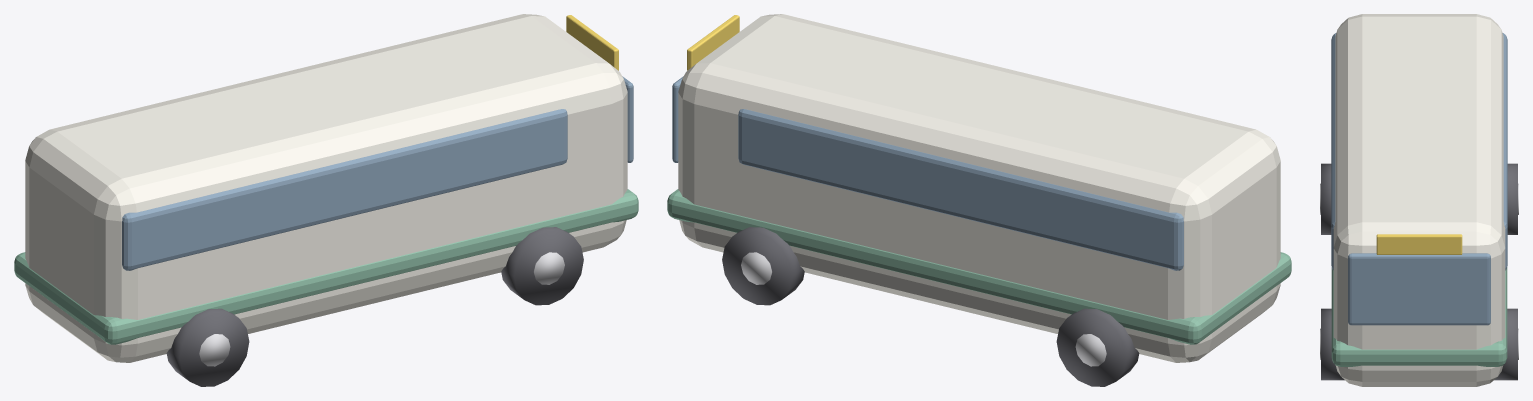
The model's file is bus.glb.
3 views of the same model, side by side, from view 1: azimuth 30°, elevation 25°; view 2: azimuth 150°, elevation 25°; view 3: azimuth 270°, elevation 25° (orthographic). The views are drawn at different scales.
Visible parts, largest first — view 1: bus; view 2: bus; view 3: bus.
Part boxes in pixels (x1,y1,x2,y2): bus: (14, 14, 638, 386); bus: (667, 14, 1291, 386); bus: (1320, 14, 1518, 386).
Bounding box in the file's own units: 7.68 × 2.85 × 2.78.
